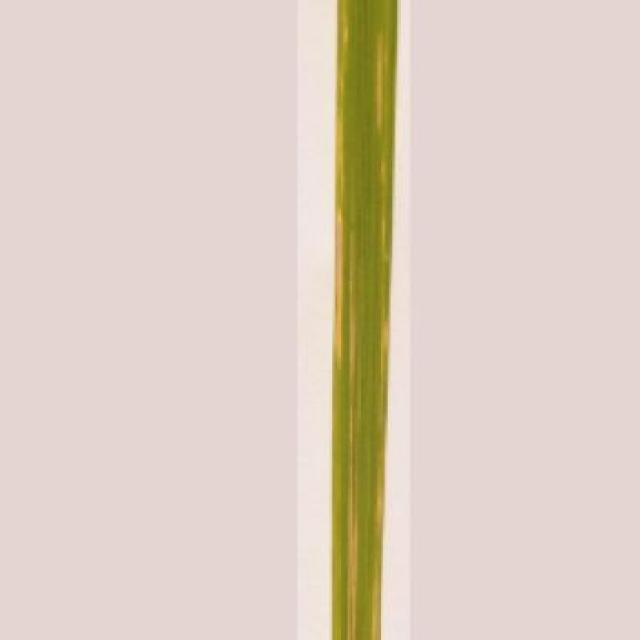Brown_Spot: (326, 0, 406, 640)
